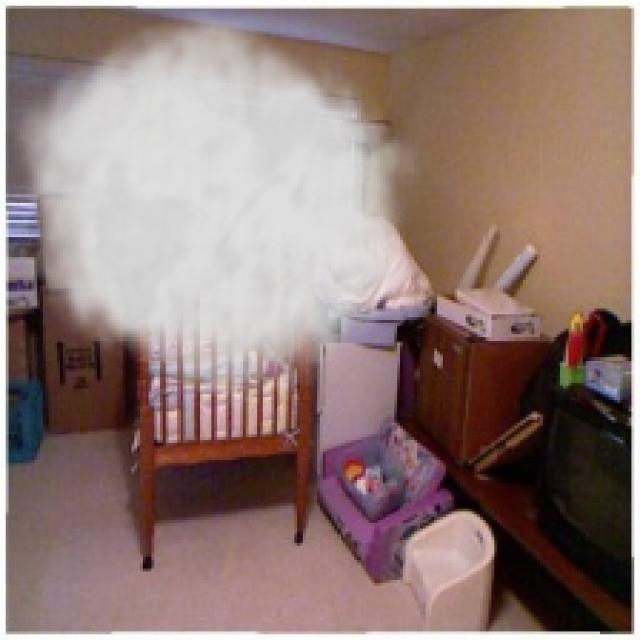Smoke: (3, 2, 420, 418)
